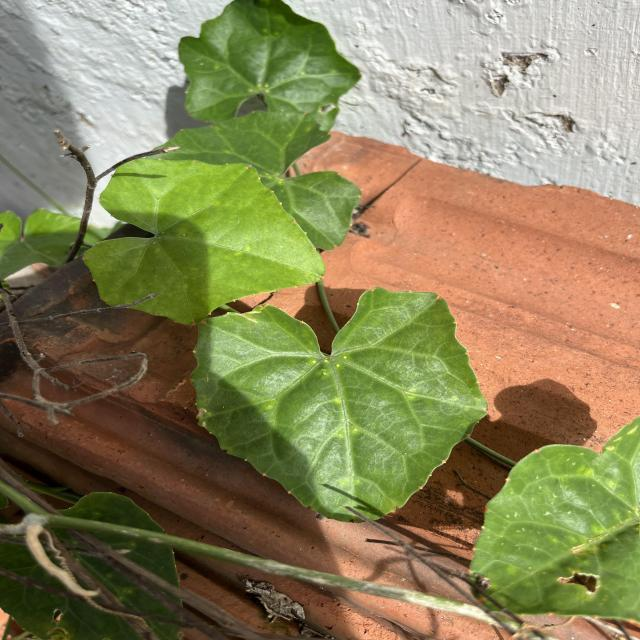Coccinia grandis: (186, 284, 491, 524), (78, 156, 327, 328)
